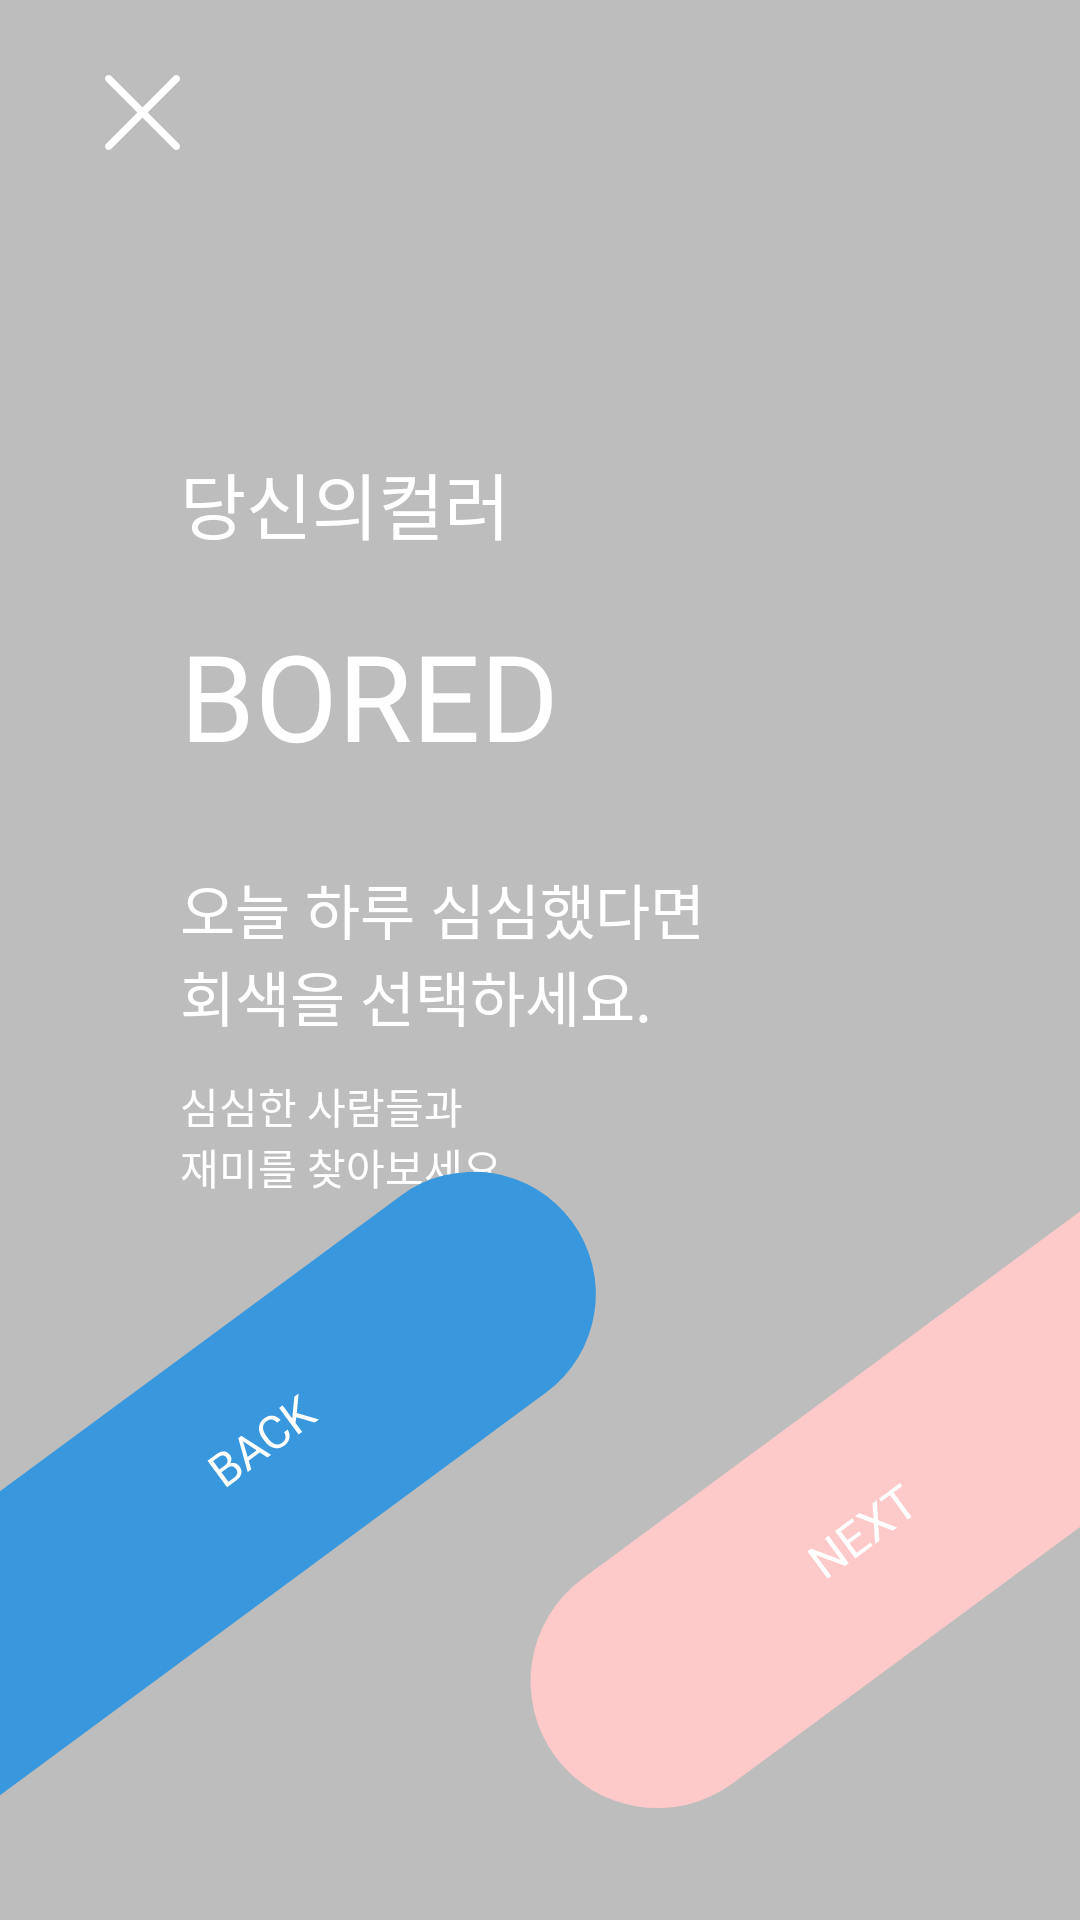

Screen size 1080x1920. Icon name, then its center in pixels as [x,y]:
close: [142,112]
